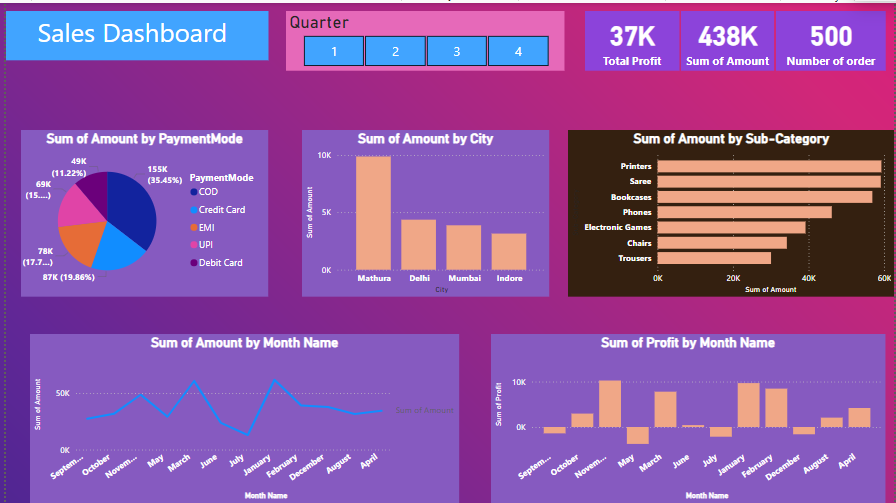

What the dashboard file says about the page in this screenshot:
{"tool":"powerbi","page":{"name":"Sales dashboard","canvas":[1280,720],"ordinal":0},"visuals":[{"type":"textbox","box":[0,11,378,70.6],"z":1},{"type":"slicer","title":"Quarter","fields":{"Values":["Orders.Quarter"]},"box":[403.1,11.8,401.5,85.7],"z":4},{"type":"card","fields":{"Values":["Sum(Details.Profit)"]},"box":[833.2,11.8,136.1,85.7],"z":5},{"type":"card","fields":{"Values":["Sum(Details.Amount)"]},"box":[972.6,11.8,134.4,85.7],"z":6},{"type":"card","fields":{"Values":["Count(Details.Order ID)"]},"box":[1108.7,11.8,157.9,85.7],"z":7},{"type":"pieChart","fields":{"Category":["Details.PaymentMode"],"Y":["Sum(Details.Amount)"]},"box":[21.8,183.1,356.1,240.2],"z":8},{"type":"columnChart","fields":{"Category":["Orders.City"],"Y":["Sum(Details.Amount)"]},"box":[426.7,183.1,356.1,240.2],"z":9},{"type":"clusteredBarChart","fields":{"Y":["Sum(Details.Amount)"],"Category":["Details.Sub-Category"]},"box":[809.7,183.1,470.3,240.2],"z":10},{"type":"lineChart","fields":{"Category":["Orders.Month Name"],"Y":["Sum(Details.Amount)"]},"box":[35.3,477.1,618.2,243.6],"z":11},{"type":"columnChart","fields":{"Category":["Orders.Month Name"],"Y":["Sum(Details.Profit)"]},"box":[698.8,477.1,567.8,243.6],"z":12}]}

Visuals, with their boxes in screenshot pixels (x1, y1, x2, y2), scaled from the page's 1280x720 canvas onto the 896x503 screenshot:
textbox: [0,8,265,57]
"Quarter" slicer: [282,8,563,68]
card - Sum(Details.Profit): [583,8,679,68]
card - Sum(Details.Amount): [681,8,775,68]
card - Count(Details.Order ID): [776,8,887,68]
pieChart - Details.PaymentMode x Sum(Details.Amount): [15,128,265,296]
columnChart - Orders.City x Sum(Details.Amount): [299,128,548,296]
clusteredBarChart - Sum(Details.Amount) x Details.Sub-Category: [567,128,895,296]
lineChart - Orders.Month Name x Sum(Details.Amount): [25,333,457,502]
columnChart - Orders.Month Name x Sum(Details.Profit): [489,333,887,502]
